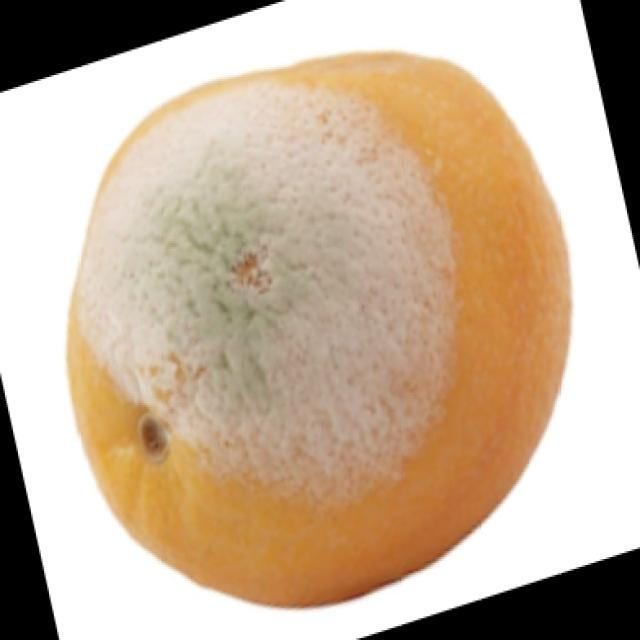sedikit-busuk: (68, 53, 570, 606), (81, 85, 454, 498)
